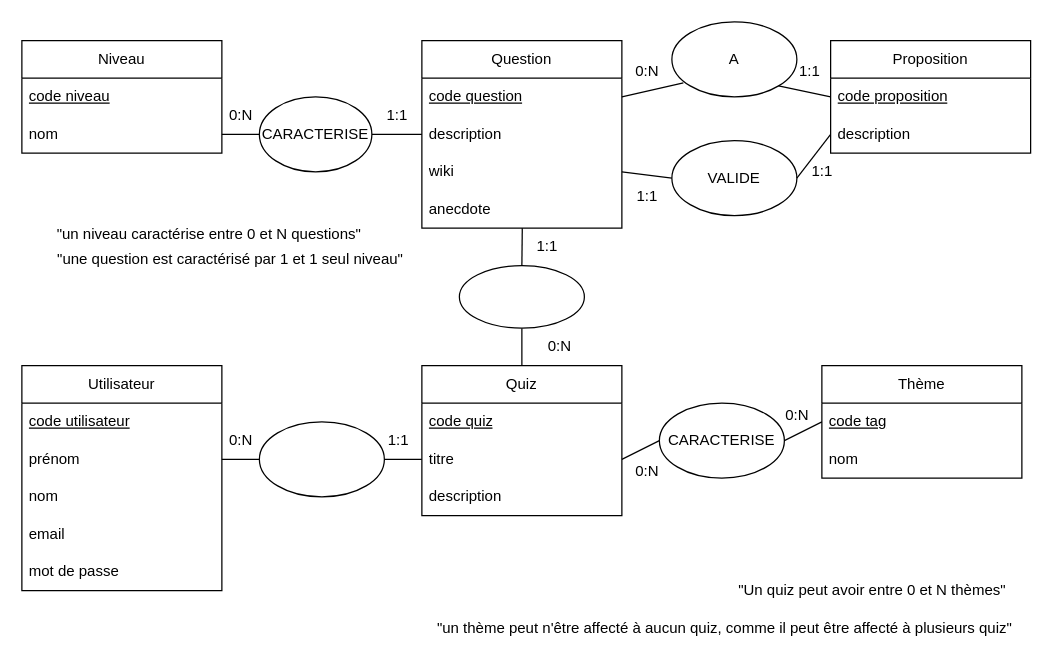
This 1053x669 diagram has some shape labels left out. The shapes that lost their labels are listed below. From the top down, each one's centre as x and y in pixels, then its label:
At (521,296): "POSSEDE".
At (321,459): "CRÉÉ".
